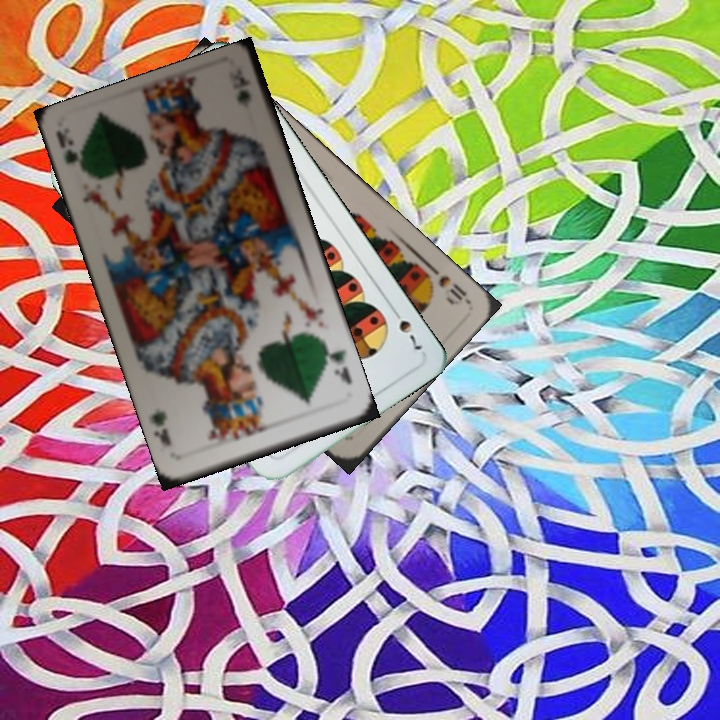GK: (52, 128, 93, 181), (321, 344, 354, 387)
S10: (419, 259, 471, 308)
S7: (387, 302, 425, 353)
